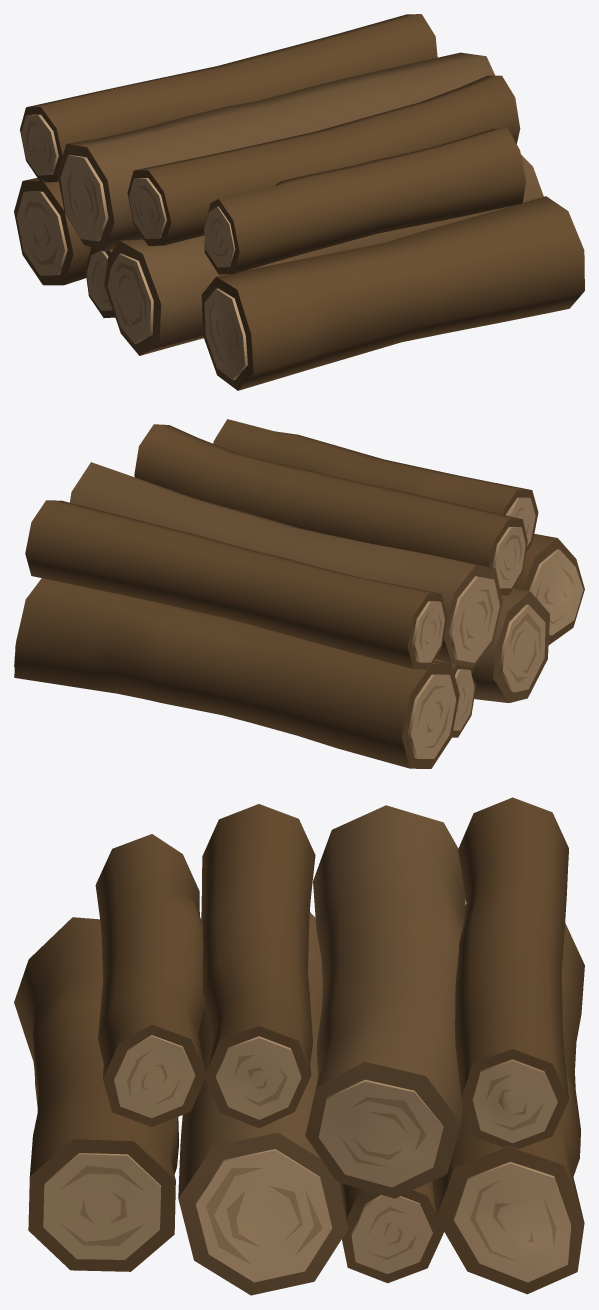
The model's file is SM_Prop_Logs_02.obj.
3 views of the same model, one above another, from view 1: azimuth 30°, elevation 25°; view 2: azimuth 150°, elevation 25°; view 3: azimuth 270°, elevation 25° (orthographic). The views are drawn at different scales.
Visible parts, largest first — view 1: SM_Prop_Logs_02_Mat_SwatchOverlay_Farm_01_Wood_Inst, SM_Prop_Logs_02_Mat_SwatchOverlay_Farm_01_Inst; view 2: SM_Prop_Logs_02_Mat_SwatchOverlay_Farm_01_Wood_Inst, SM_Prop_Logs_02_Mat_SwatchOverlay_Farm_01_Inst; view 3: SM_Prop_Logs_02_Mat_SwatchOverlay_Farm_01_Wood_Inst, SM_Prop_Logs_02_Mat_SwatchOverlay_Farm_01_Inst.
Part boxes in pixels (<box>): SM_Prop_Logs_02_Mat_SwatchOverlay_Farm_01_Wood_Inst: <box>14,14,584,390</box>; SM_Prop_Logs_02_Mat_SwatchOverlay_Farm_01_Inst: <box>17,115,245,380</box>; SM_Prop_Logs_02_Mat_SwatchOverlay_Farm_01_Wood_Inst: <box>14,419,584,768</box>; SM_Prop_Logs_02_Mat_SwatchOverlay_Farm_01_Inst: <box>411,497,583,758</box>; SM_Prop_Logs_02_Mat_SwatchOverlay_Farm_01_Wood_Inst: <box>14,797,584,1295</box>; SM_Prop_Logs_02_Mat_SwatchOverlay_Farm_01_Inst: <box>43,1036,571,1282</box>.
Size of the model in its own units: 1.24 by 0.5695 by 1.13.
Materials: 2 (2 with a texture image).
